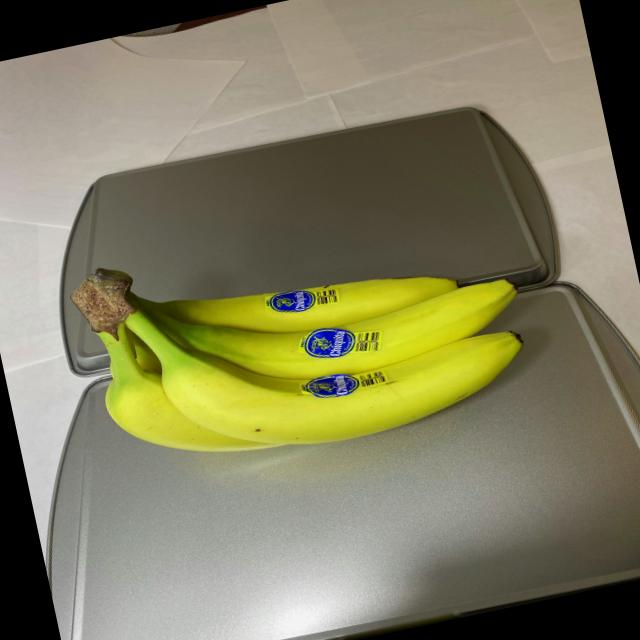banana: (58, 182, 542, 490)
